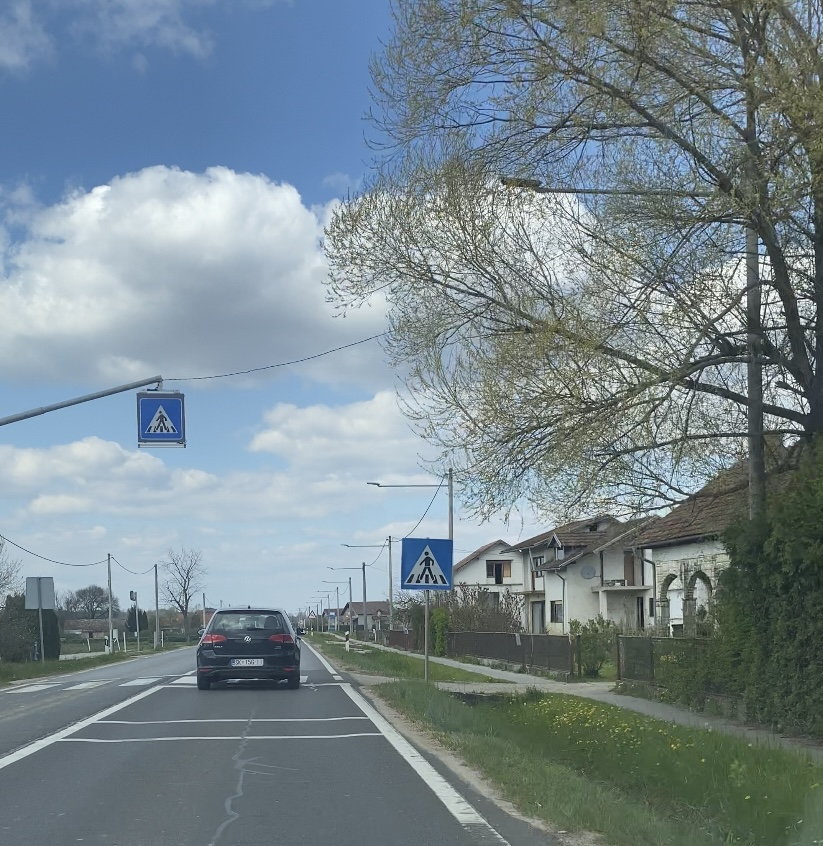Pješački prijelaz: (401, 537, 453, 589), (139, 397, 183, 440)
